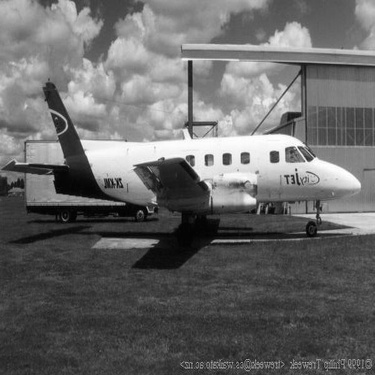airplane: (4, 73, 365, 246)
